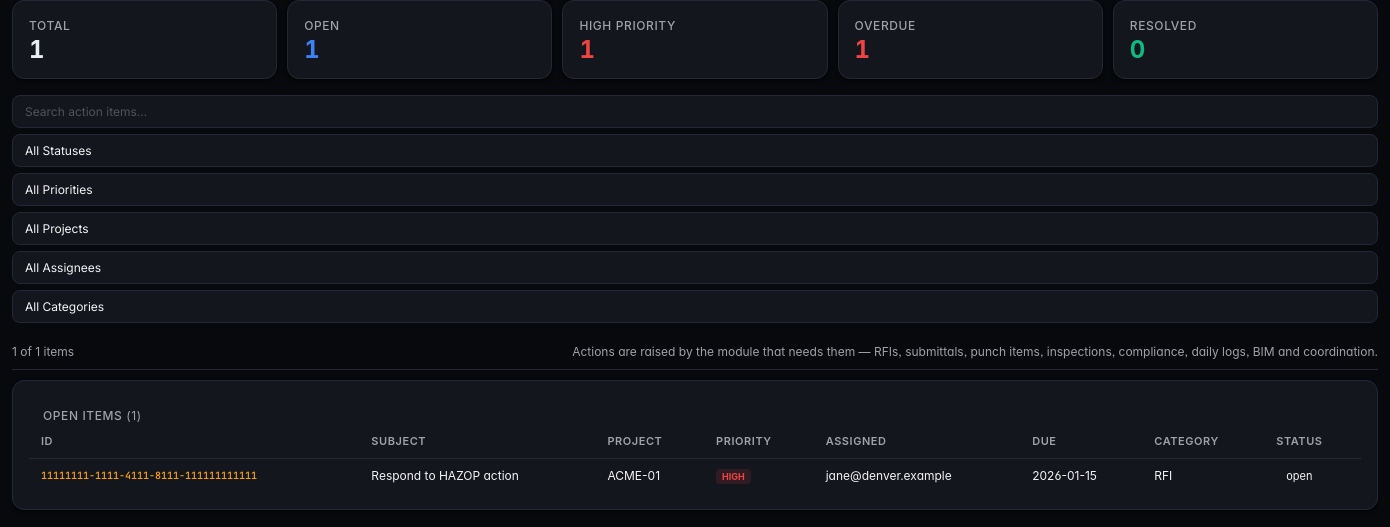
Scenario: the detail panel offers the transitions the API accepts › offers Start, Complete and Cancel on an open action
The image size is (1390, 527).
Click the text "Respond to HAZOP action": point(477, 475) 359,458 -> 595,493
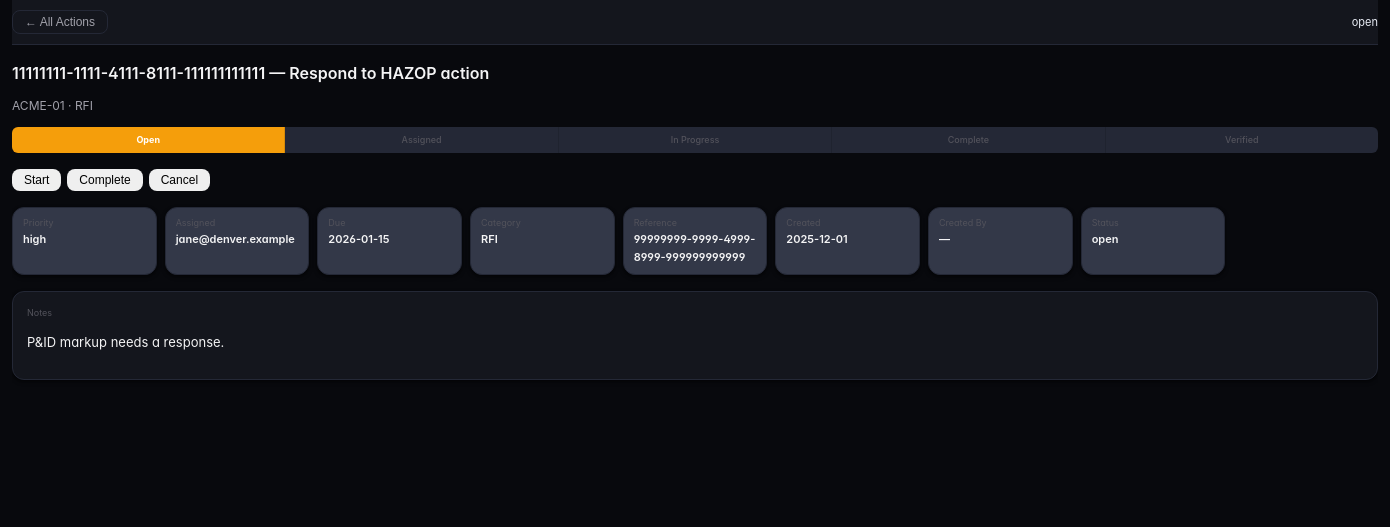
Result: the button "← All Actions" is shown at 12,10 -> 108,34
Result: the button "Start" is shown at 12,168 -> 61,190
Result: the button "Complete" is shown at 67,168 -> 143,190
